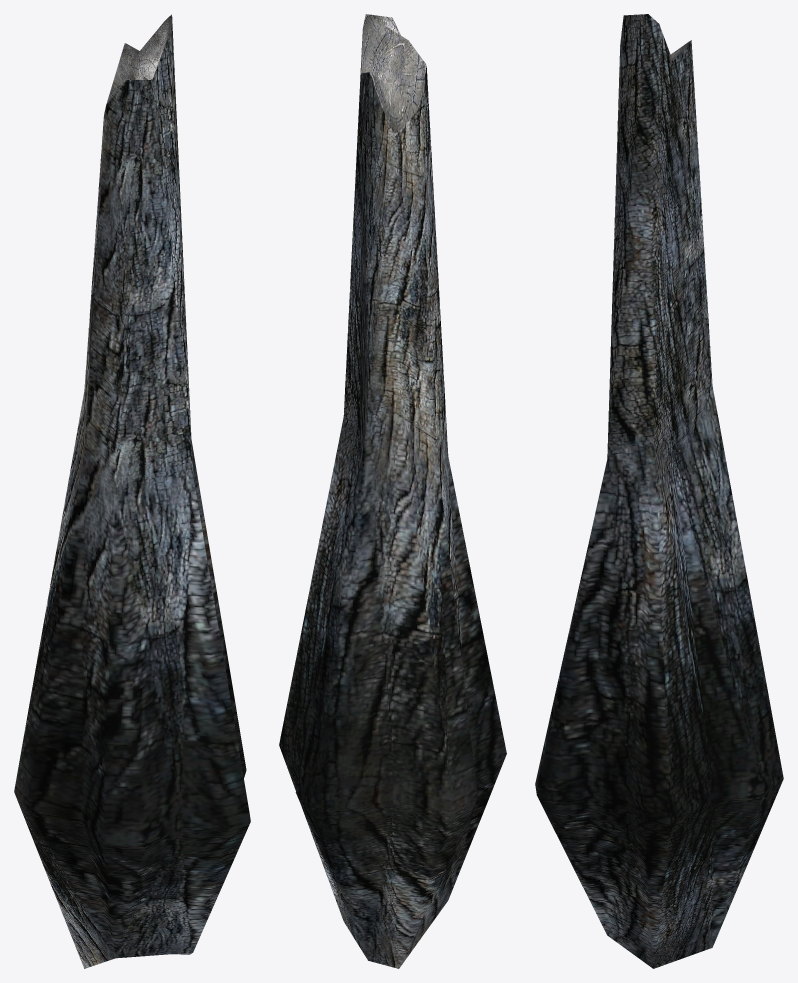
The model's file is decd_scorched_massassi_broke_l1.fbx.
3 renders of one model, left to right at view 1: azimuth 30°, elevation 25°; view 2: azimuth 150°, elevation 25°; view 3: azimuth 270°, elevation 25°, orthographic. The views are drawn at different scales.
Visible parts, largest first — view 1: mesh_node; view 2: mesh_node; view 3: mesh_node.
Boxes of the visible parts, x1=… form: mesh_node: x1=14, y1=14, x2=250, y2=968; mesh_node: x1=279, y1=14, x2=506, y2=968; mesh_node: x1=535, y1=14, x2=783, y2=968.
Size of the model in its own units: 10.64 by 46.46 by 10.94.
Materials: 3 (3 with a texture image).
